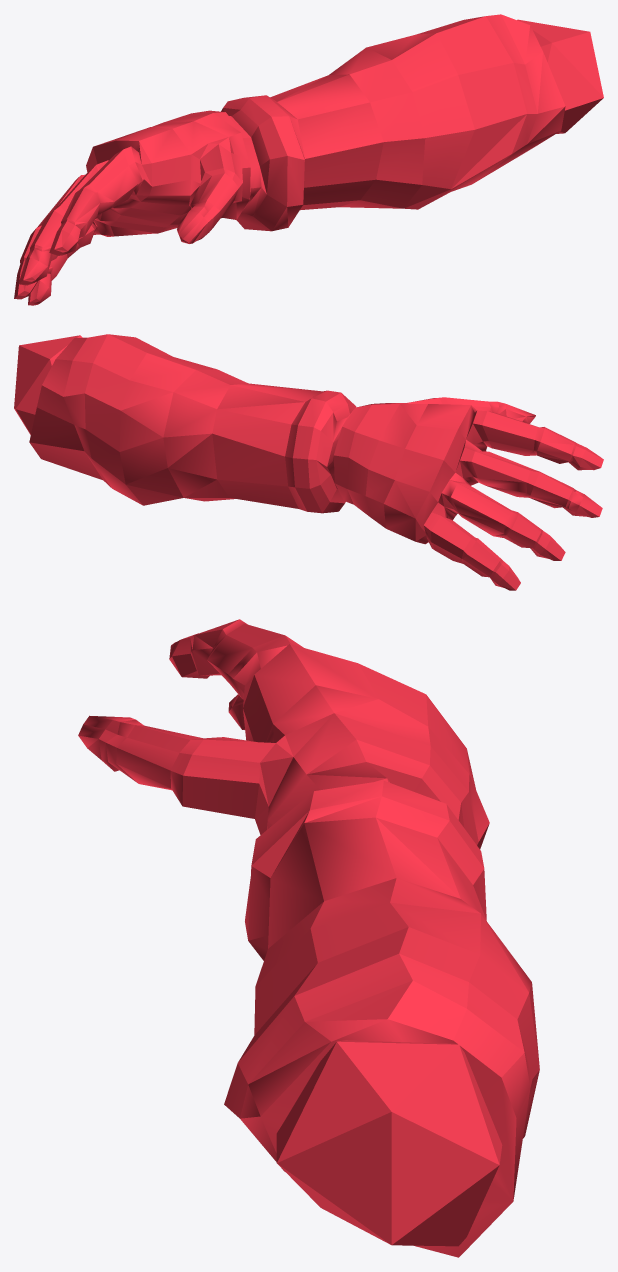
File: left_forearm.fbx
The picture shows the model from 3 angles, top to bottom: view 1: azimuth 30°, elevation 25°; view 2: azimuth 150°, elevation 25°; view 3: azimuth 270°, elevation 25°; orthographic projection. The views are drawn at different scales.
Parts seen in each view (by area): view 1: left_forearm; view 2: left_forearm; view 3: left_forearm.
Part boxes in pixels (bbox=[...]): left_forearm: bbox=[14, 14, 603, 305]; left_forearm: bbox=[14, 334, 603, 590]; left_forearm: bbox=[78, 619, 539, 1257].
Bounding box in the file's own units: 0.515 × 0.1418 × 0.1874.
